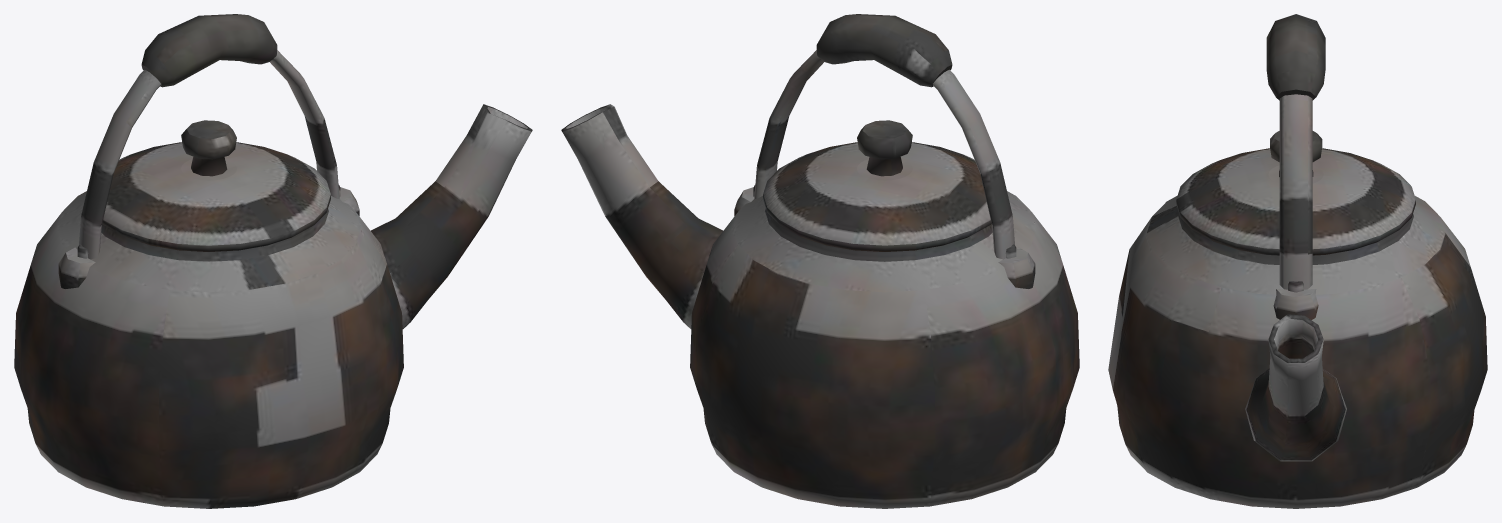
Rendered from K10_kettle.glb.
3 views of the same model, side by side, from view 1: azimuth 30°, elevation 25°; view 2: azimuth 150°, elevation 25°; view 3: azimuth 270°, elevation 25° (orthographic).
Parts seen in each view (by area): view 1: Kettle; view 2: Kettle; view 3: Kettle.
Boxes of the visible parts, x1,y1,x2,y2 form: Kettle: [14, 14, 532, 508]; Kettle: [561, 14, 1079, 508]; Kettle: [1108, 14, 1487, 508].
Bounding box in the file's own units: 0.3 × 0.2483 × 0.2054.
Materials: 4 (4 with a texture image).
